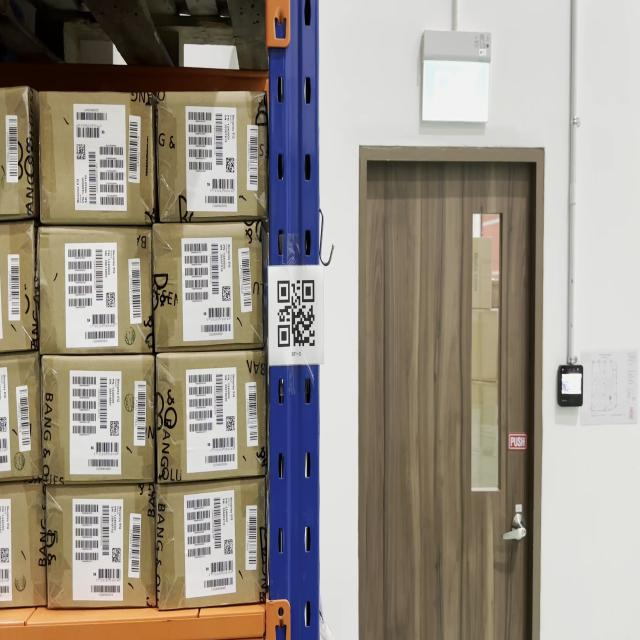box: (42, 96, 152, 220), (41, 230, 152, 352), (46, 359, 153, 484), (159, 480, 264, 607), (157, 223, 262, 349), (157, 356, 266, 475), (159, 94, 266, 215), (47, 489, 156, 604)
